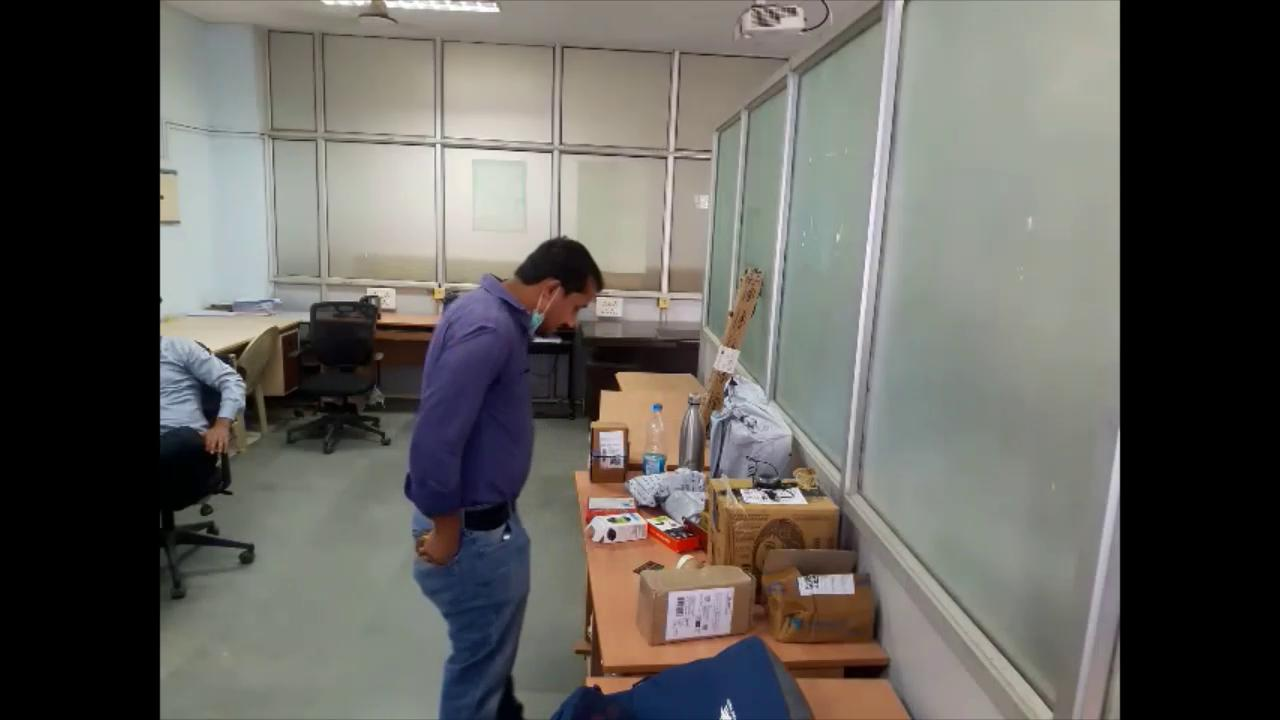shoplifting: (394, 226, 609, 720)
